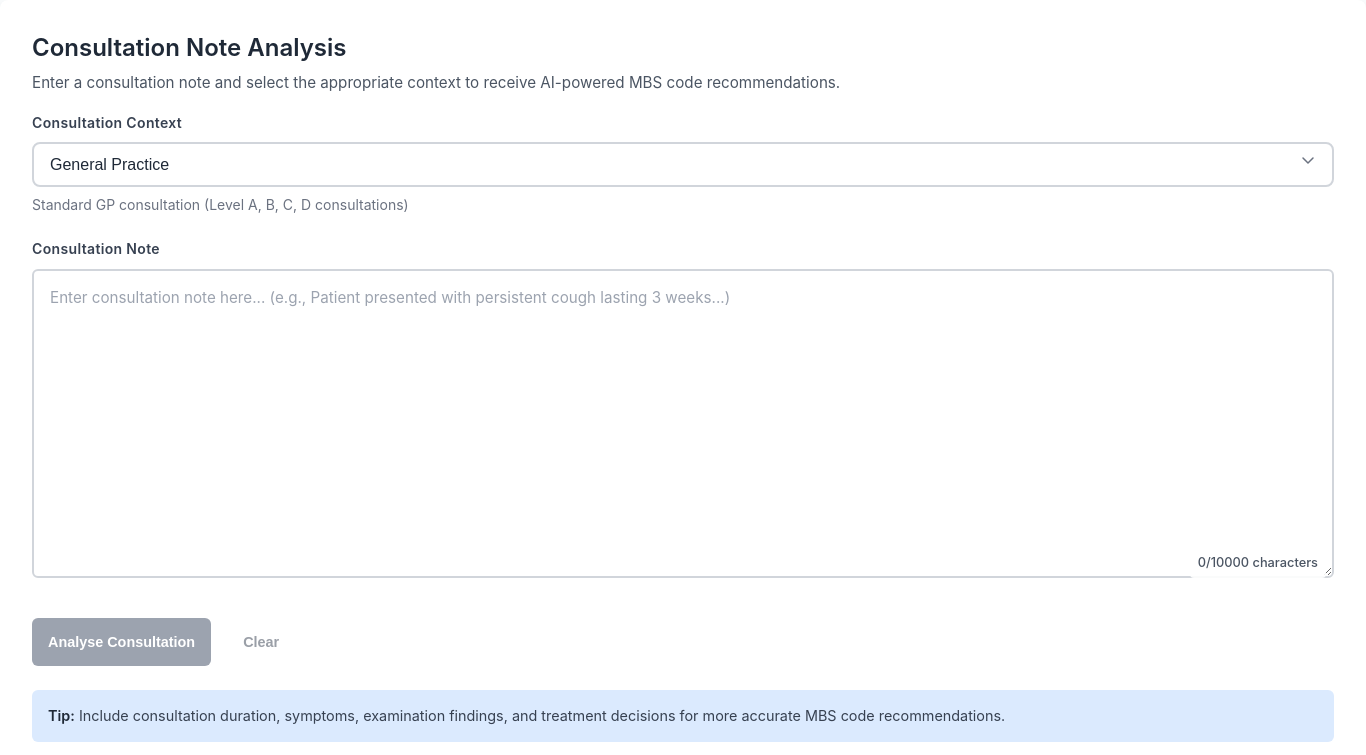
it: ConsultationInput › After User Starts Typing › should show character count updates as user types
Type "hello" into the text box labelled "Consultation Note" at coordinates (683, 424), box [32,269,1334,578]
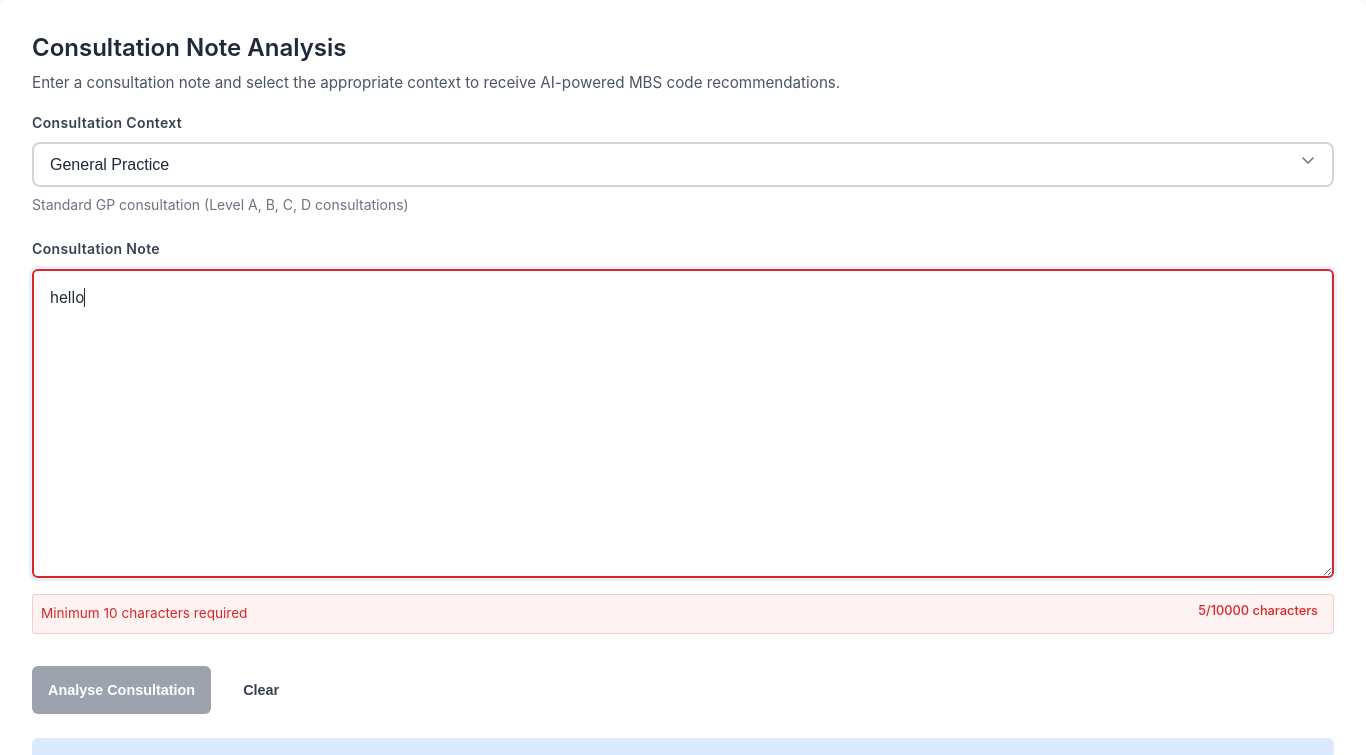
Expected: the text "5/10000 characters" is shown, [1190,597,1326,626]
